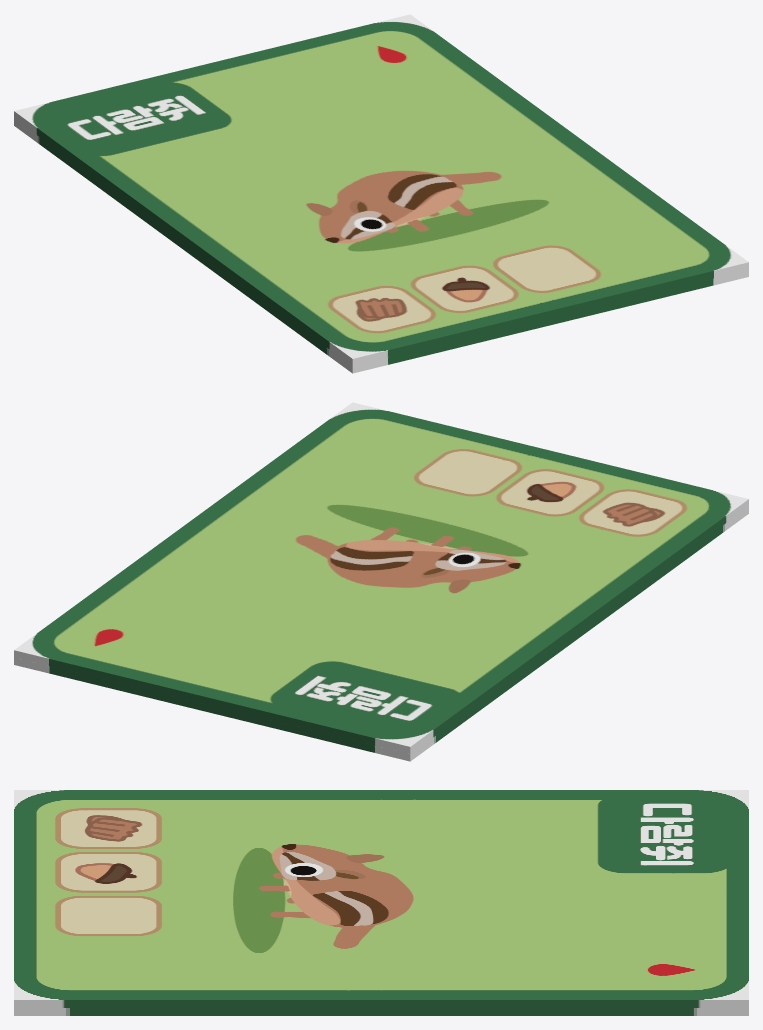
Rendered from SquirrelCard.fbx.
3 views of the same model, one above another, from view 1: azimuth 30°, elevation 25°; view 2: azimuth 150°, elevation 25°; view 3: azimuth 270°, elevation 25° (orthographic). The views are drawn at different scales.
Visible parts, largest first — view 1: Front, Back; view 2: Front, Back; view 3: Front, Back.
Part boxes in pixels (x1,y1,x2,y2): Front: (14,14,748,366); Back: (14,118,748,373); Front: (14,402,748,754); Back: (14,506,748,761); Front: (14,790,748,1007); Back: (14,1008,748,1015).
Bounding box in the file's own units: 4.06 × 0.1436 × 6.
